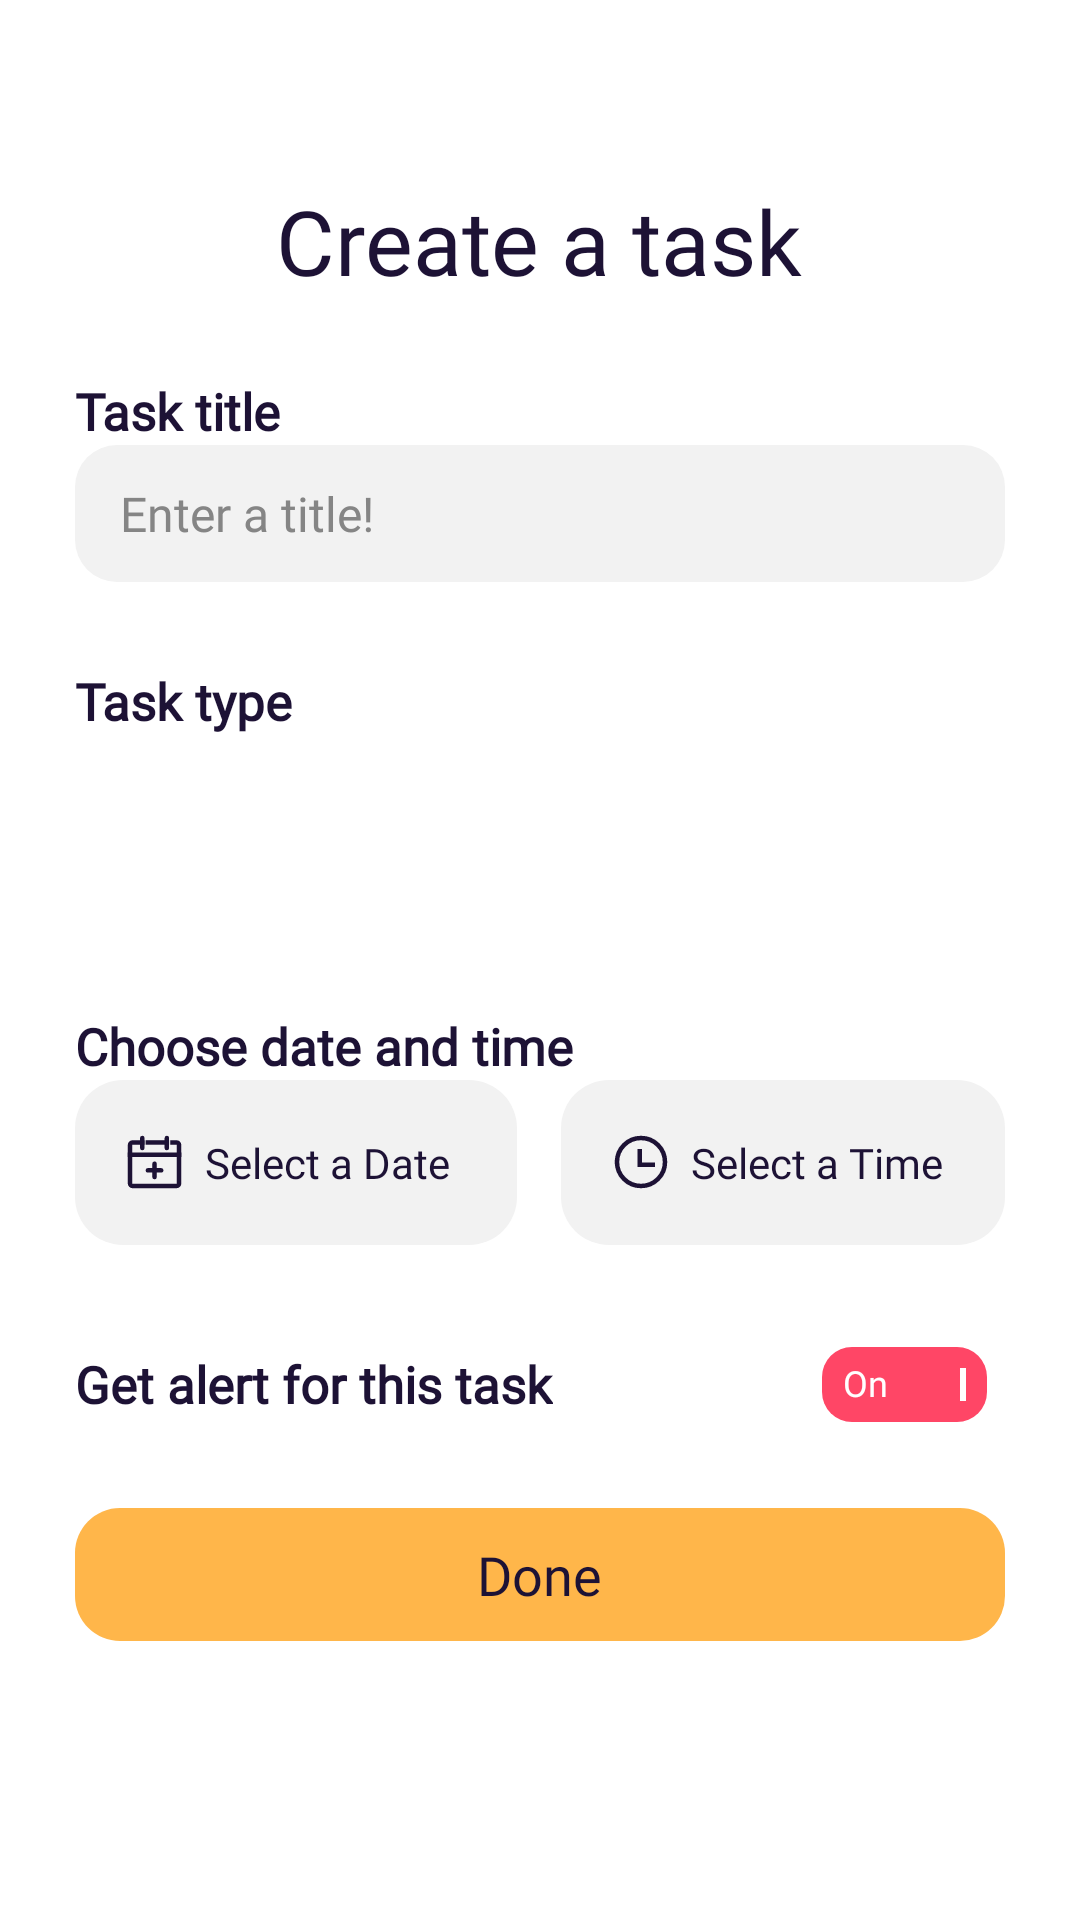

Locate icon controls on the screen. Image size 1080×1920, boxes as (x1, y1, x2, y2).
calendar: (127, 1135, 182, 1189)
clock: (614, 1135, 668, 1189)
